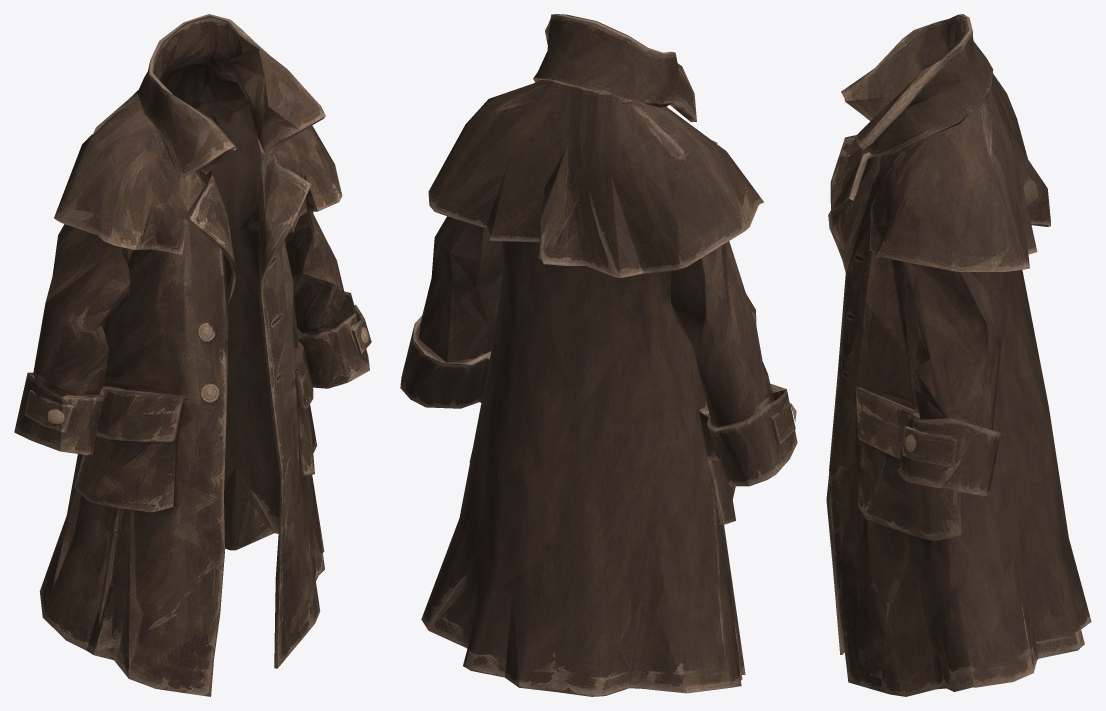
File: coat-player.glb
The picture shows the model from 3 angles, left to right: view 1: azimuth 30°, elevation 25°; view 2: azimuth 150°, elevation 25°; view 3: azimuth 270°, elevation 25°; orthographic projection. The views are drawn at different scales.
Visible parts, largest first — view 1: GLTF; view 2: GLTF; view 3: GLTF.
Boxes of the visible parts, left/top/right/bottom form: GLTF: left=14, top=14, right=371, bottom=696; GLTF: left=400, top=14, right=797, bottom=696; GLTF: left=826, top=14, right=1091, bottom=696.
Size of the model in its own units: 0.3464 by 0.5999 by 0.2199.
Materials: 1 (1 with a texture image).
